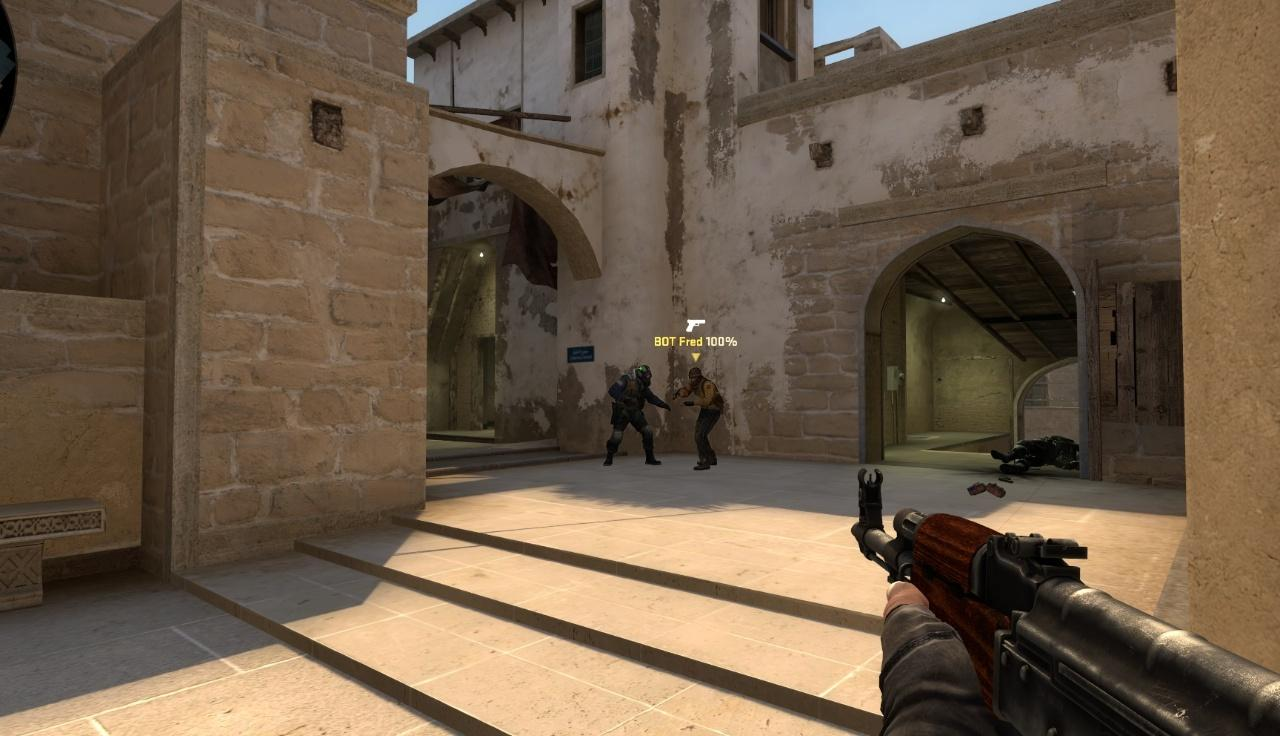ct: (603, 365, 662, 466)
cthead: (636, 365, 652, 385)
rifle: (850, 467, 1280, 736)
tt: (678, 367, 724, 470)
tthead: (688, 368, 702, 386)
